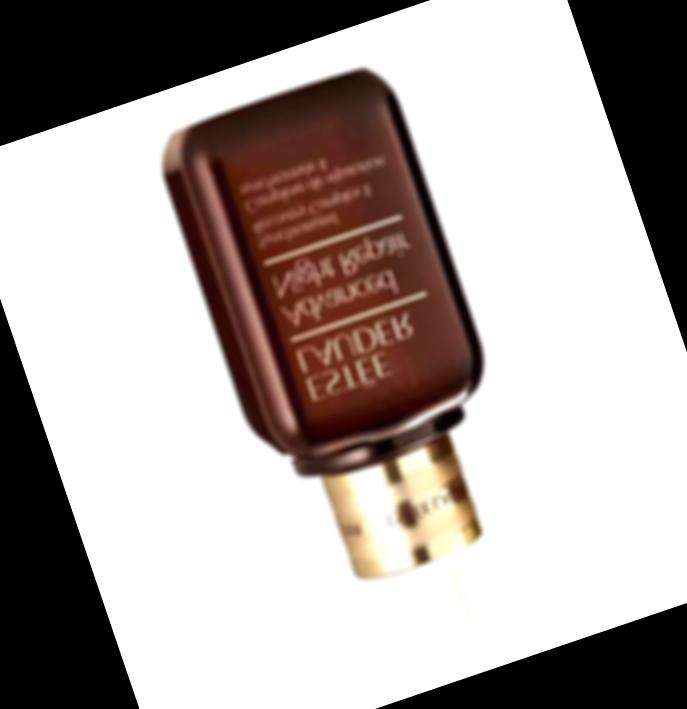cosmetic: (164, 66, 576, 696)
